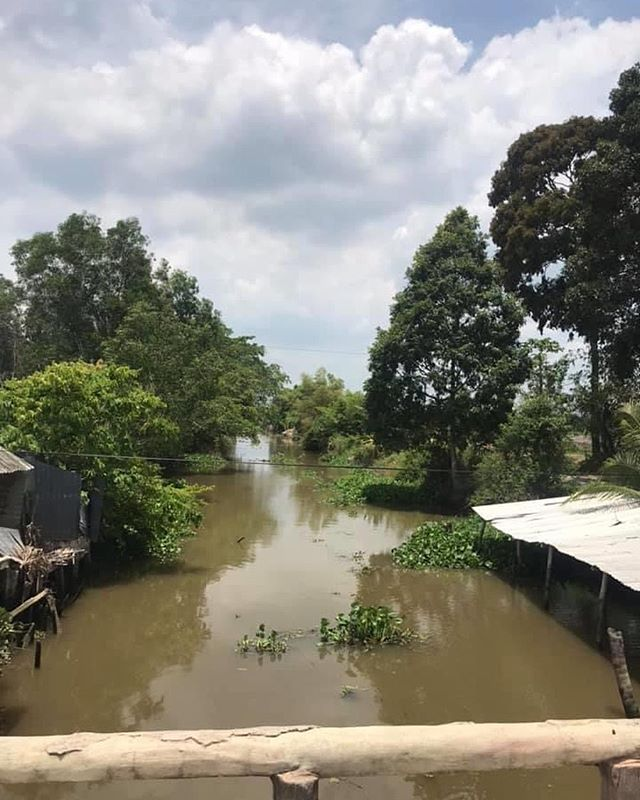river: (75, 433, 562, 800)
sky: (4, 2, 511, 221)
tree: (493, 100, 640, 469), (361, 203, 533, 500), (1, 369, 192, 561), (4, 215, 204, 365), (114, 300, 256, 468)
